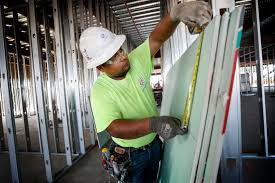hard hat: (80, 26, 126, 69)
